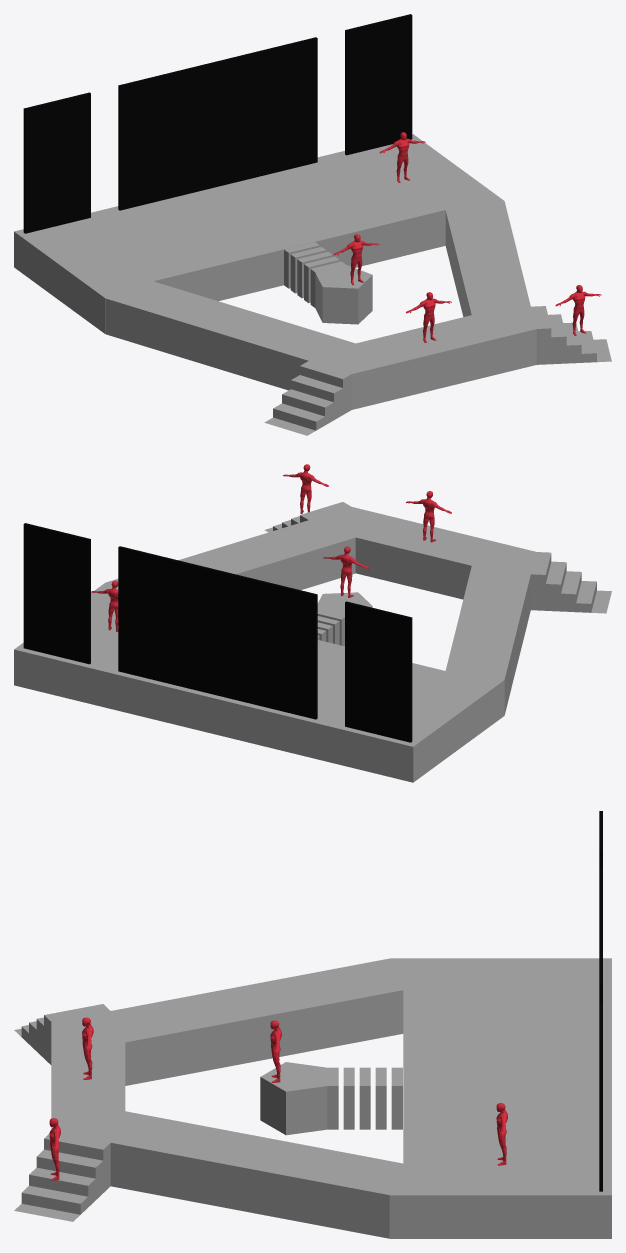
The picture shows the model from 3 angles, top to bottom: view 1: azimuth 30°, elevation 25°; view 2: azimuth 150°, elevation 25°; view 3: azimuth 270°, elevation 25°; orthographic projection. The views are drawn at different scales.
Visible parts, largest first — view 1: Sàn (×2), LED main, Catwalk2, Catwalk1, Cube.002, Cube.001, Cube.003, Cube.006, Cube.004, Cylinder, Cube.005, Cube (+4 smaller); view 2: LED main, Sàn (×2), Catwalk2, Cube.003, Cube.002, Cube.001, Catwalk1, Cube.006, Cube.004, Cube, Cylinder, Cube.005 (+4 smaller); view 3: Sàn (×2), Catwalk1, Catwalk2, Cube.004, Cube.003, Cube.005, Cylinder, Cube, Cube.006, Cube.001.
Part boxes in pixels (<box>): Sàn (×2): <box>42,145,536,409</box>; LED main: <box>118,37,317,210</box>; Catwalk2: <box>105,281,382,390</box>; Catwalk1: <box>445,201,535,331</box>; Cube.002: <box>23,92,90,233</box>; Cube.001: <box>345,14,412,155</box>; Cube.003: <box>14,229,157,333</box>; Cube.006: <box>264,361,351,435</box>; Cube.004: <box>366,134,503,213</box>; Cylinder: <box>315,265,372,324</box>; Cube.005: <box>531,306,611,364</box>; Cube: <box>284,242,345,307</box>; LED main: <box>118,546,317,719</box>; Sàn (×2): <box>66,507,535,769</box>; Catwalk2: <box>444,549,536,714</box>; Cube.003: <box>360,672,504,782</box>; Cube.002: <box>345,601,412,742</box>; Cube.001: <box>23,523,90,664</box>; Catwalk1: <box>106,507,387,590</box>; Cube.006: <box>531,552,611,613</box>; Cube.004: <box>14,582,117,697</box>; Cube: <box>317,609,344,646</box>; Cylinder: <box>317,592,372,615</box>; Cube.005: <box>264,502,351,532</box>; Sàn (×2): <box>51,972,611,1181</box>; Catwalk1: <box>58,1103,404,1238</box>; Catwalk2: <box>52,958,418,1085</box>; Cube.004: <box>390,1164,611,1238</box>; Cube.003: <box>390,958,611,989</box>; Cube.005: <box>14,1133,110,1221</box>; Cylinder: <box>260,1062,327,1135</box>; Cube: <box>327,1067,402,1129</box>; Cube.006: <box>14,1004,110,1064</box>; Cube.001: <box>599,1001,602,1191</box>.
Size of what is drawn, in the model's own units: 15.14 by 5.8 by 16.16.
